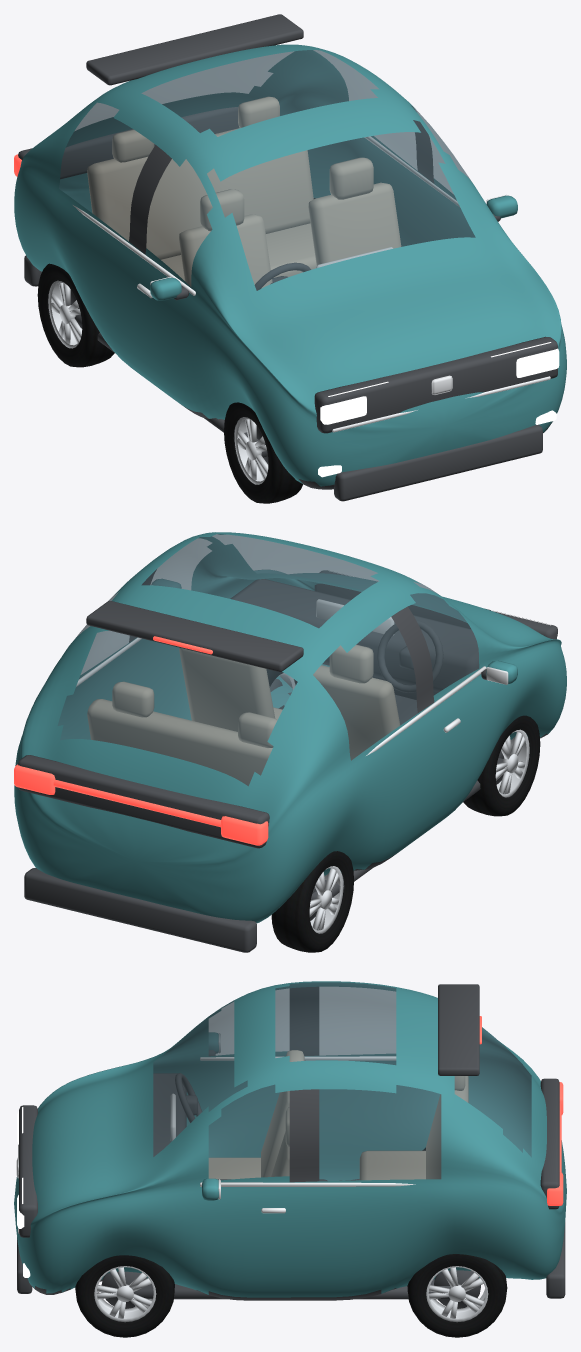
File: mango_micro_aaa-9bd136ebad7d.glb
3 renders of one model, top to bottom at view 1: azimuth 30°, elevation 25°; view 2: azimuth 150°, elevation 25°; view 3: azimuth 270°, elevation 25°, orthographic. The views are drawn at different scales.
Parts seen in each view (by area): view 1: mango_body_shell, mango_seats, mango_trim, wheel_-1_-1_tire, wheel_-1_1_tire, mango_headlights, mango_chrome, wheel_-1_-1_rim, wheel_-1_1_rim, mango_dashboard, door_L0_mirror_cap; view 2: mango_body_shell, mango_trim, mango_seats, mango_dashboard, wheel_-1_-1_tire, mango_taillights, wheel_-1_1_tire, mango_chrome, wheel_-1_1_rim, wheel_-1_-1_rim; view 3: mango_body_shell, mango_trim, mango_seats, wheel_1_-1_tire, wheel_1_1_tire, mango_dashboard, wheel_1_-1_rim, wheel_1_1_rim, mango_chrome, mango_taillights, wheel_1_-1_brake, wheel_1_1_brake.
Boxes of the visible parts, x1=… form: mango_body_shell: x1=14, y1=44, x2=566, y2=489; mango_seats: x1=87, y1=96, x2=401, y2=288; mango_trim: x1=18, y1=14, x2=557, y2=501; wheel_-1_-1_tire: x1=37, y1=263, x2=114, y2=367; wheel_-1_1_tire: x1=224, y1=402, x2=302, y2=503; mango_headlights: x1=318, y1=342, x2=559, y2=477; mango_chrome: x1=73, y1=136, x2=550, y2=432; wheel_-1_-1_rim: x1=48, y1=280, x2=82, y2=348; wheel_-1_1_rim: x1=234, y1=417, x2=268, y2=484; mango_dashboard: x1=74, y1=262, x2=310, y2=457; door_L0_mirror_cap: x1=150, y1=277, x2=181, y2=300; mango_body_shell: x1=14, y1=532, x2=566, y2=923; mango_trim: x1=18, y1=570, x2=557, y2=952; mango_seats: x1=87, y1=644, x2=399, y2=785; mango_dashboard: x1=230, y1=579, x2=503, y2=900; wheel_-1_-1_tire: x1=271, y1=851, x2=353, y2=952; mango_taillights: x1=14, y1=636, x2=268, y2=845; wheel_-1_1_tire: x1=463, y1=715, x2=540, y2=816; mango_chrome: x1=76, y1=599, x2=486, y2=755; wheel_-1_1_rim: x1=495, y1=729, x2=529, y2=797; wheel_-1_-1_rim: x1=309, y1=866, x2=343, y2=933; mango_body_shell: x1=14, y1=981, x2=566, y2=1300; mango_trim: x1=17, y1=984, x2=565, y2=1298; mango_seats: x1=208, y1=1050, x2=468, y2=1180; wheel_1_-1_tire: x1=407, y1=1254, x2=507, y2=1337; wheel_1_1_tire: x1=75, y1=1255, x2=174, y2=1337; mango_dashboard: x1=133, y1=1073, x2=450, y2=1299; wheel_1_-1_rim: x1=426, y1=1266, x2=488, y2=1322; wheel_1_1_rim: x1=94, y1=1266, x2=156, y2=1322; mango_chrome: x1=16, y1=1056, x2=415, y2=1233; mango_taillights: x1=479, y1=1016, x2=563, y2=1205; wheel_1_-1_brake: x1=434, y1=1270, x2=480, y2=1308; wheel_1_1_brake: x1=101, y1=1271, x2=148, y2=1308.
Size of the model in its own units: 1.96 by 1.56 by 2.91.
9 materials, 1 textured.
